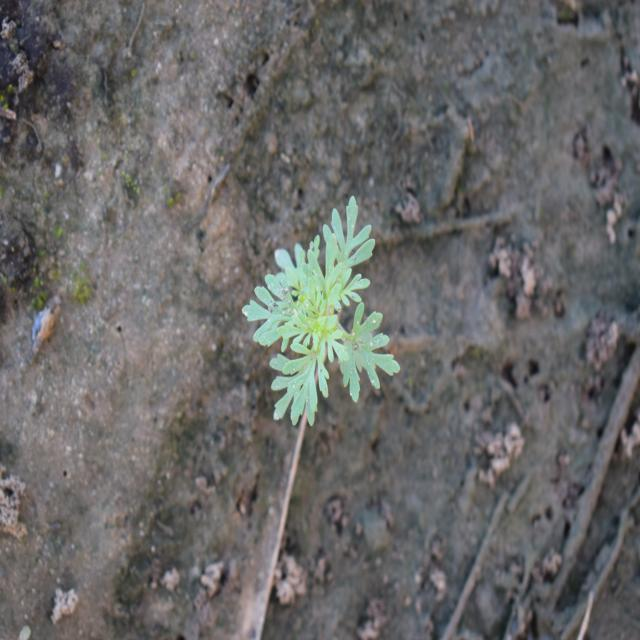Ragweed: (240, 193, 402, 428)
